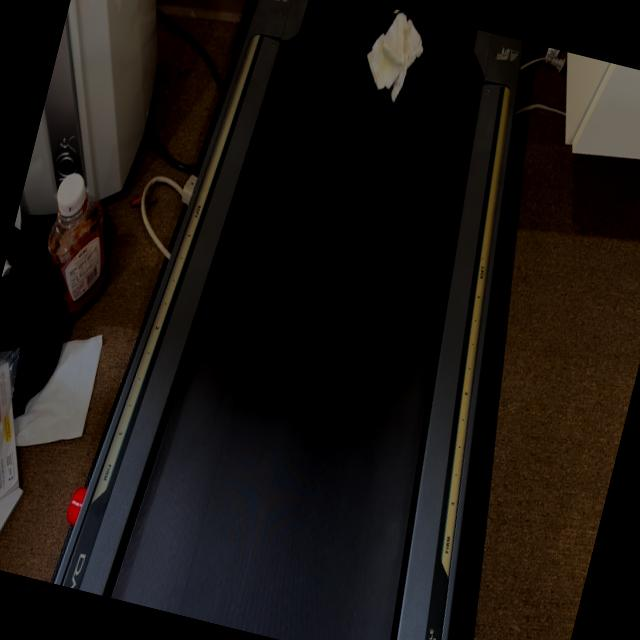Recycle: (355, 5, 432, 106)
